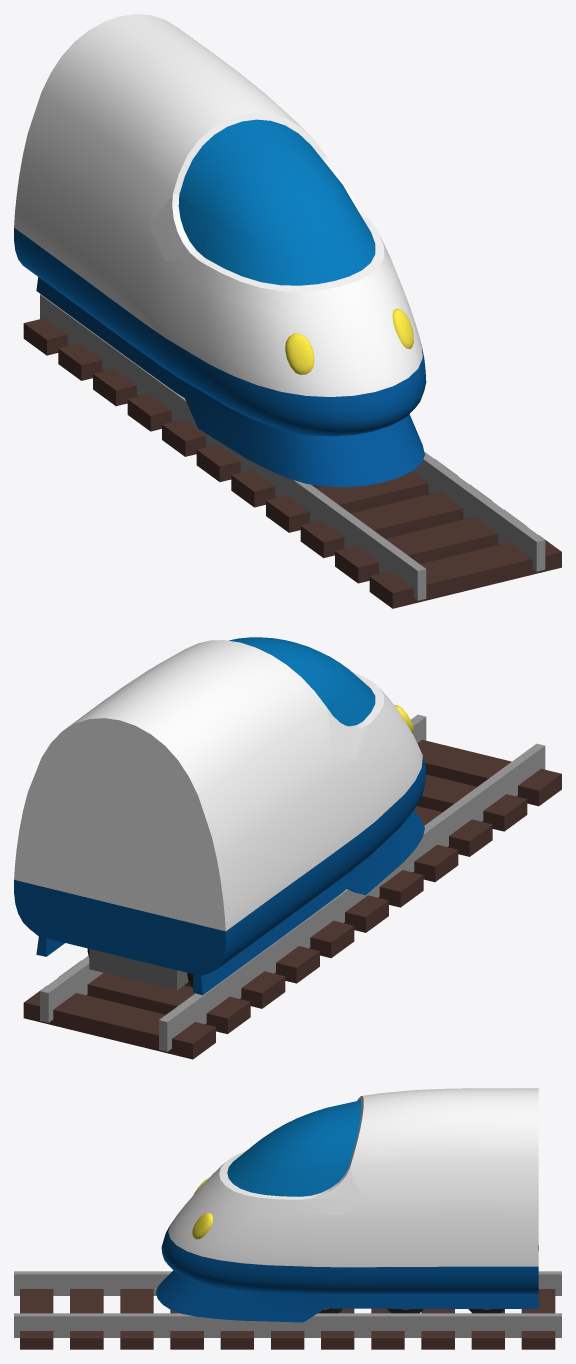
File: train.fbx
3 views of the same model, one above another, from view 1: azimuth 30°, elevation 25°; view 2: azimuth 150°, elevation 25°; view 3: azimuth 270°, elevation 25° (orthographic). The views are drawn at different scales.
Parts seen in each view (by area): view 1: Cube.558; view 2: Cube.558; view 3: Cube.558.
Part boxes in pixels (box(x1,y1,x2,y2)): Cube.558: box(14, 14, 561, 608); Cube.558: box(14, 637, 561, 1059); Cube.558: box(14, 1088, 561, 1349).
Bounding box in the file's own units: 134 × 188 × 414.
Materials: 1 (1 with a texture image).
